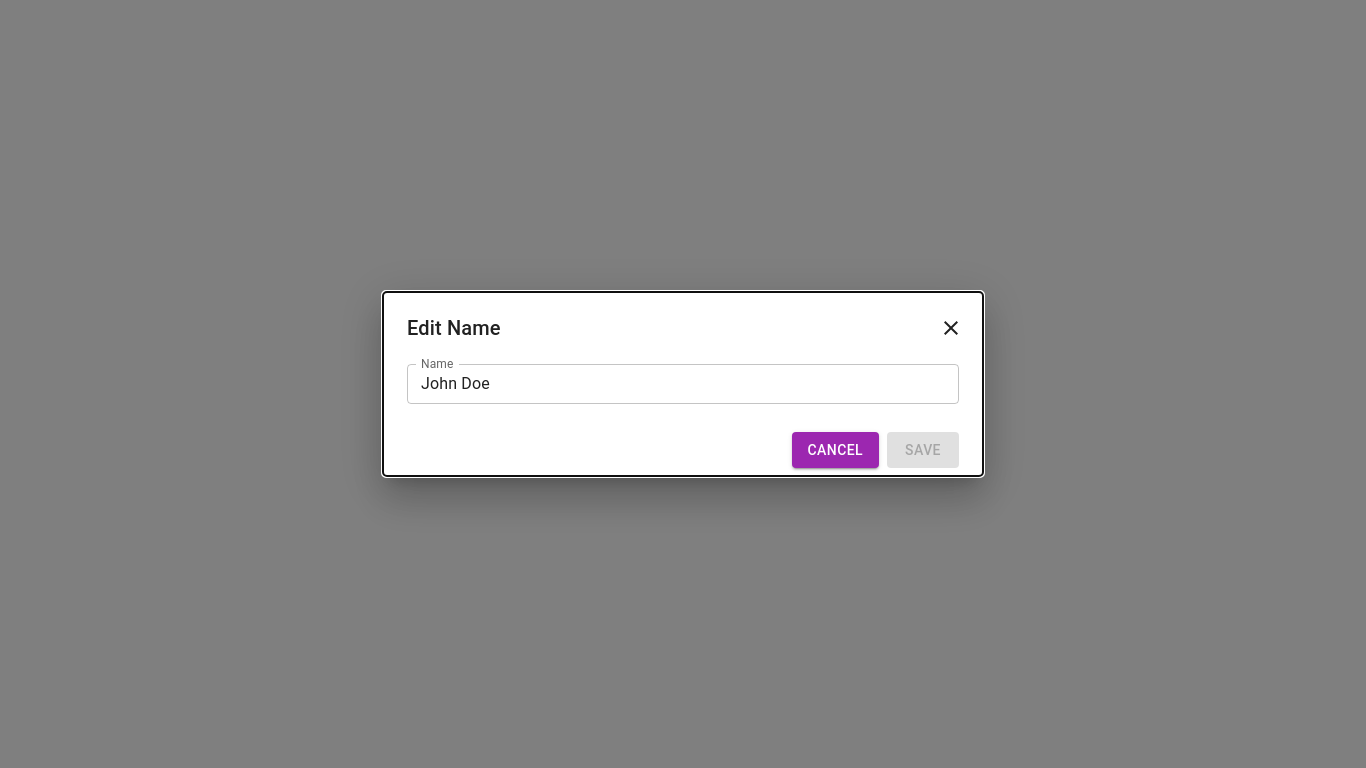
Test case: NameEditModal › Form validation - leading spaces › allows names that do not start with space
The image size is (1366, 768).
Step 1. Clear the field labelled "Name" → point(683, 384), box [407,364,959,404]
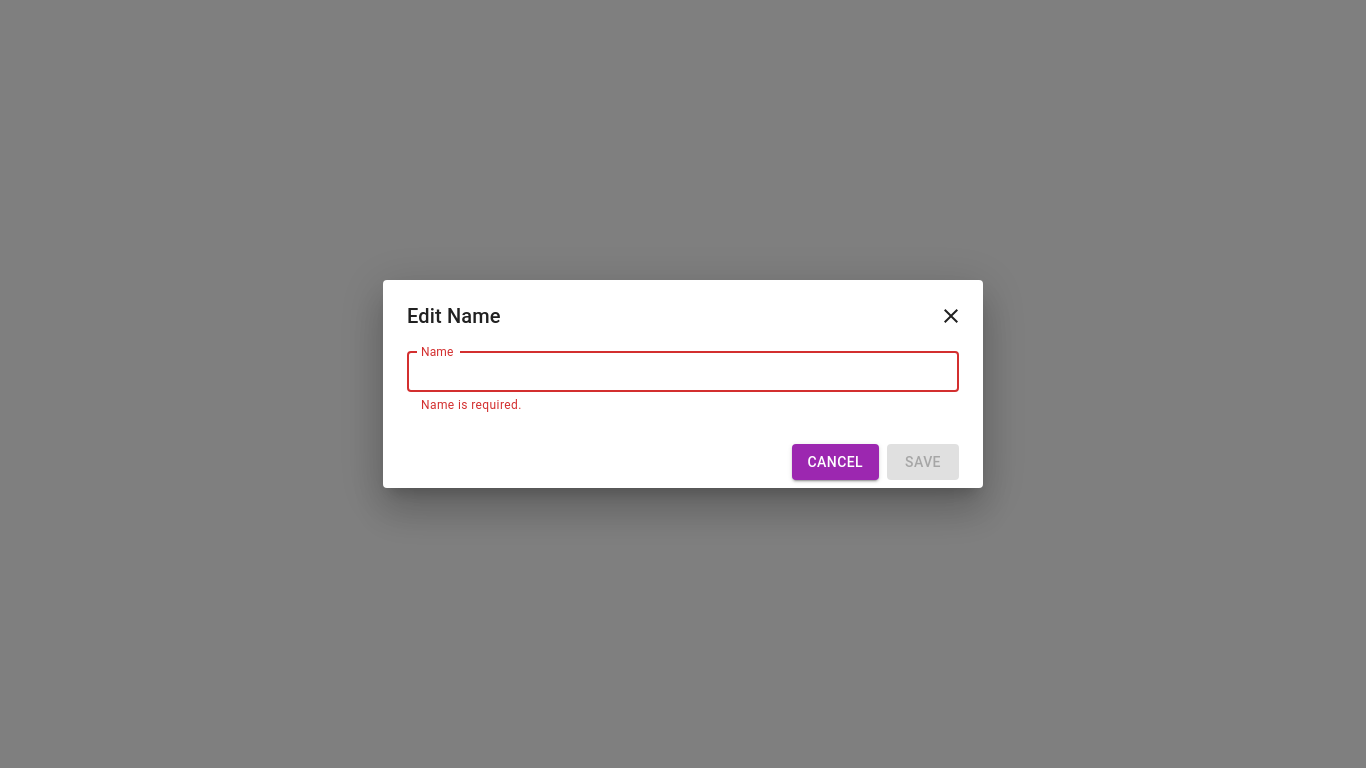
Step 2. Type "Valid Name" into the field labelled "Name" → point(683, 372), box [407,352,959,392]
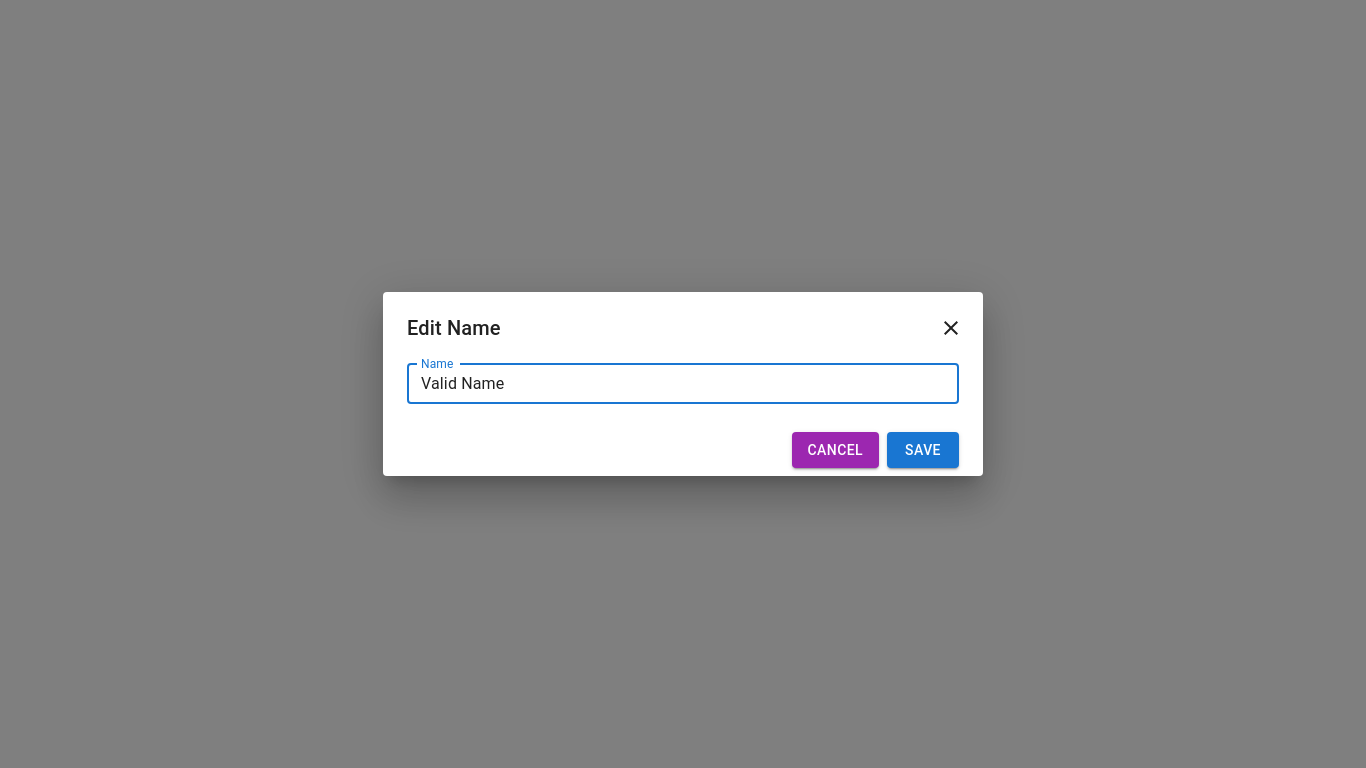
Expected: the button "Save" is enabled, [887,432,959,468]
